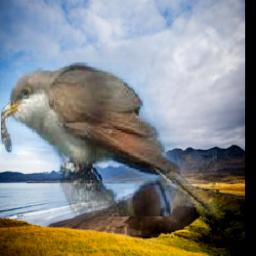Cuckoo: (0, 62, 216, 216)
